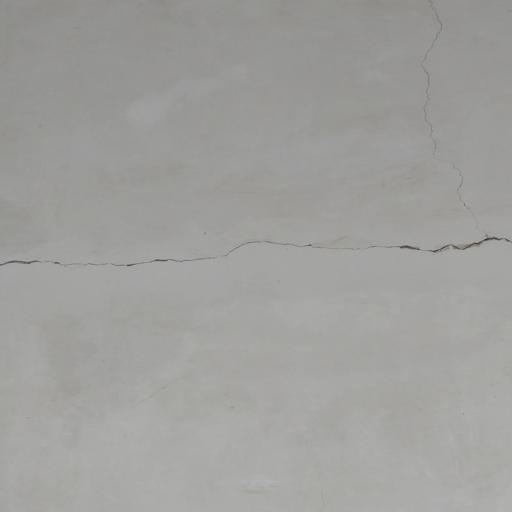minor_crack: (0, 216, 512, 304), (414, 0, 497, 239)
